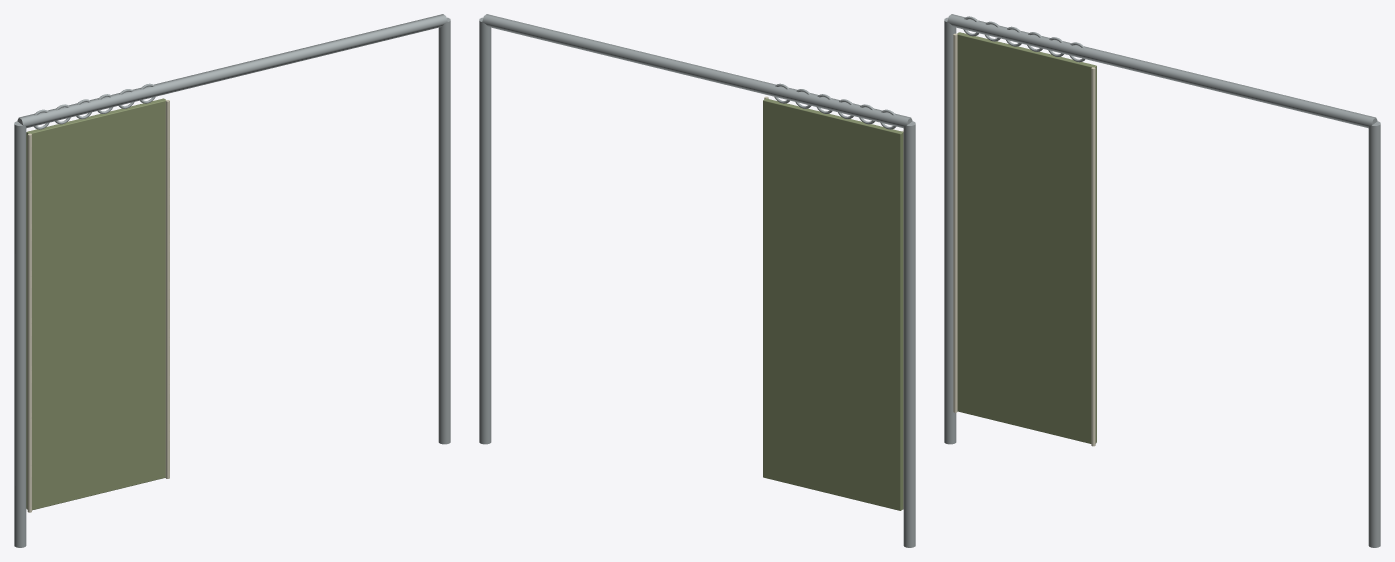
File: survival-greenhouse-and-irrigation-thermal-curtain-rai-306cd136__21310.glb
3 views of the same model, side by side, from view 1: azimuth 30°, elevation 25°; view 2: azimuth 150°, elevation 25°; view 3: azimuth 330°, elevation 25° (orthographic).
Visible parts, largest first — view 1: thermal-curtain-rail; view 2: thermal-curtain-rail; view 3: thermal-curtain-rail.
Part boxes in pixels (x1,y1,x2,y2): thermal-curtain-rail: [14, 14, 450, 547]; thermal-curtain-rail: [479, 14, 915, 547]; thermal-curtain-rail: [944, 14, 1380, 547].
Bounding box in the file's own units: 2.05 × 1.94 × 0.0521.
